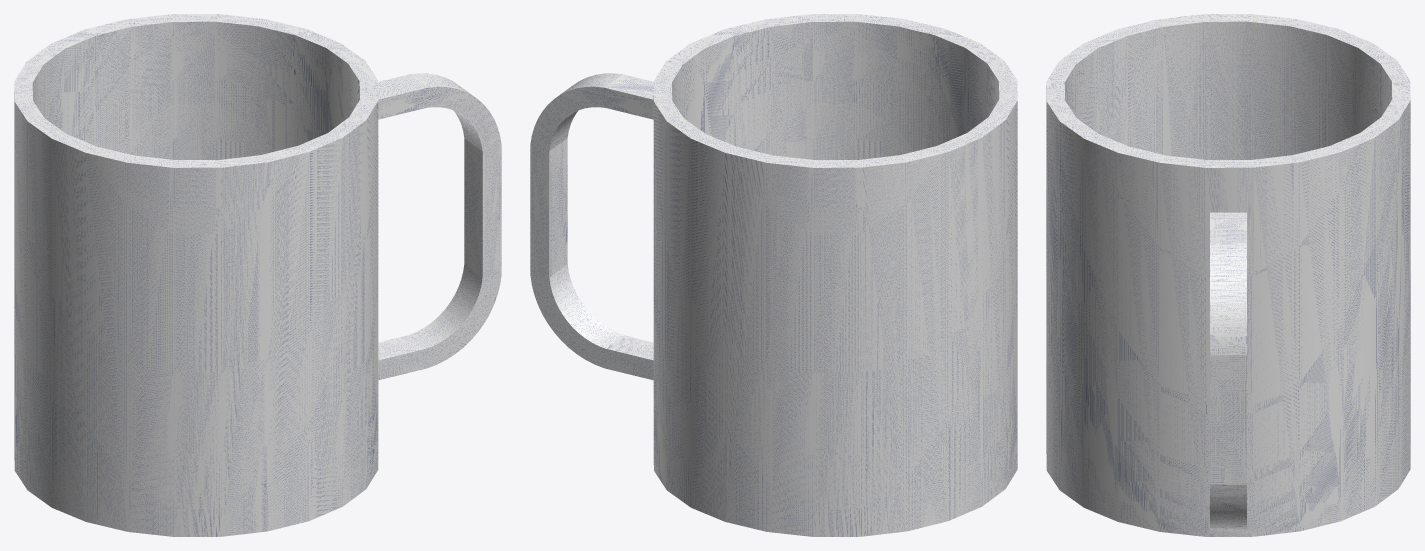
Rendered from mug.dae.
3 renders of one model, left to right at view 1: azimuth 30°, elevation 25°; view 2: azimuth 150°, elevation 25°; view 3: azimuth 270°, elevation 25°, orthographic.
Parts seen in each view (by area): view 1: group_0 (×3); view 2: group_0 (×3); view 3: group_0 (×3).
Part boxes in pixels (x1=…): group_0 (×3): x1=14, y1=14, x2=501, y2=536; group_0 (×3): x1=530, y1=14, x2=1017, y2=536; group_0 (×3): x1=1046, y1=14, x2=1410, y2=536.
Bounding box in the file's own units: 5.62 × 3.91 × 4.37.
